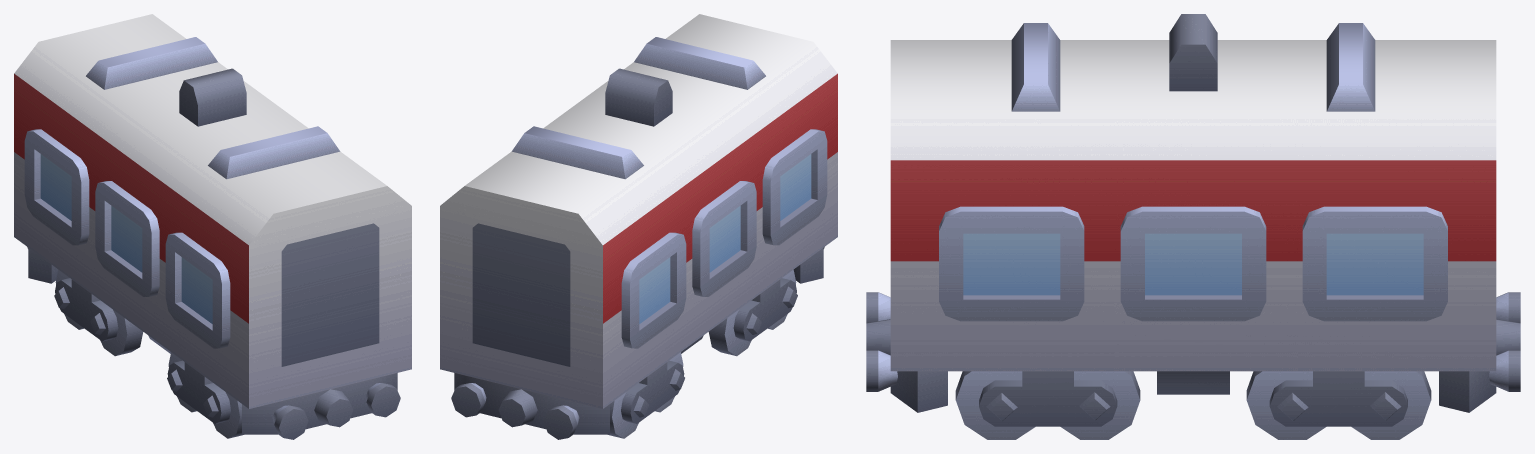
File: train-electric-city-c.glb
3 views of the same model, side by side, from view 1: azimuth 30°, elevation 25°; view 2: azimuth 150°, elevation 25°; view 3: azimuth 270°, elevation 25° (orthographic). The views are drawn at different scales.
Parts seen in each view (by area): view 1: train-electric-city-c, wheels-back, wheels-front; view 2: train-electric-city-c, wheels-front, wheels-back; view 3: train-electric-city-c, wheels-back, wheels-front.
Boxes of the visible parts, <box> form: train-electric-city-c: <box>14,14,411,439</box>; wheels-back: <box>54,270,143,356</box>; wheels-front: <box>167,352,243,438</box>; train-electric-city-c: <box>440,14,837,439</box>; wheels-front: <box>708,270,797,356</box>; wheels-back: <box>608,352,684,438</box>; train-electric-city-c: <box>866,14,1520,412</box>; wheels-back: <box>1246,371,1431,439</box>; wheels-front: <box>955,371,1140,439</box>.
Bounding box in the file's own units: 1.1 × 1.68 × 2.7.
1 material, 1 textured.
